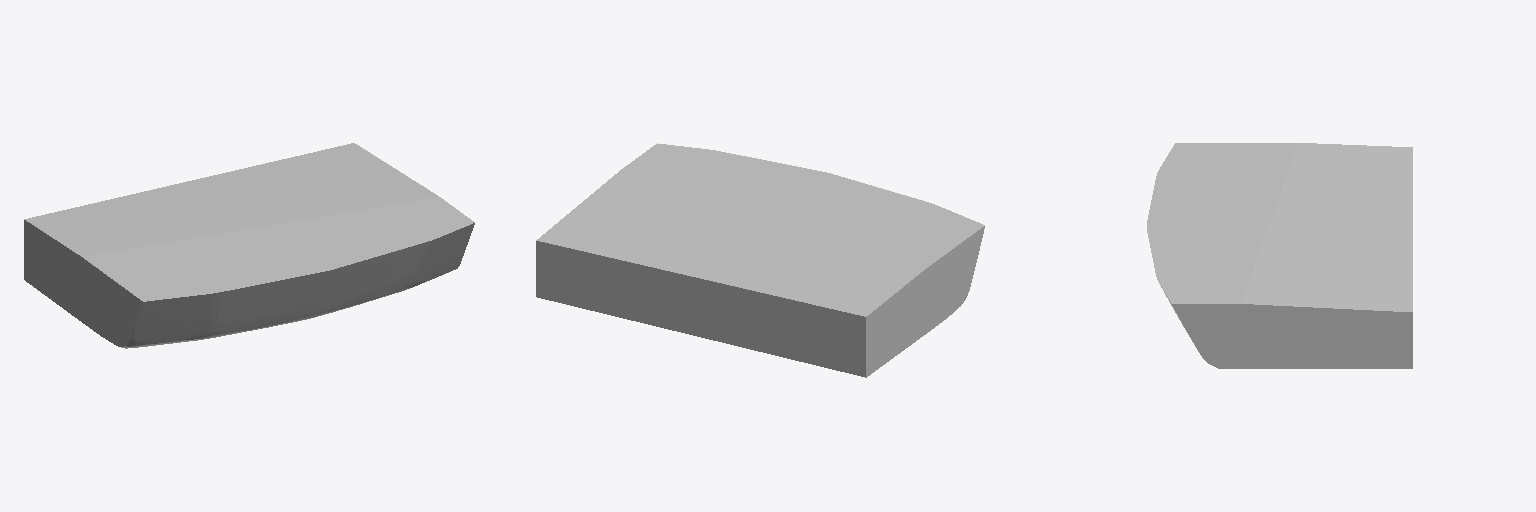
Rendered from Bowl_21_collision_11.obj.
3 renders of one model, left to right at view 1: azimuth 30°, elevation 25°; view 2: azimuth 150°, elevation 25°; view 3: azimuth 270°, elevation 25°, orthographic.
Size of the model in its own units: 0.1064 by 0.0201 by 0.0745.